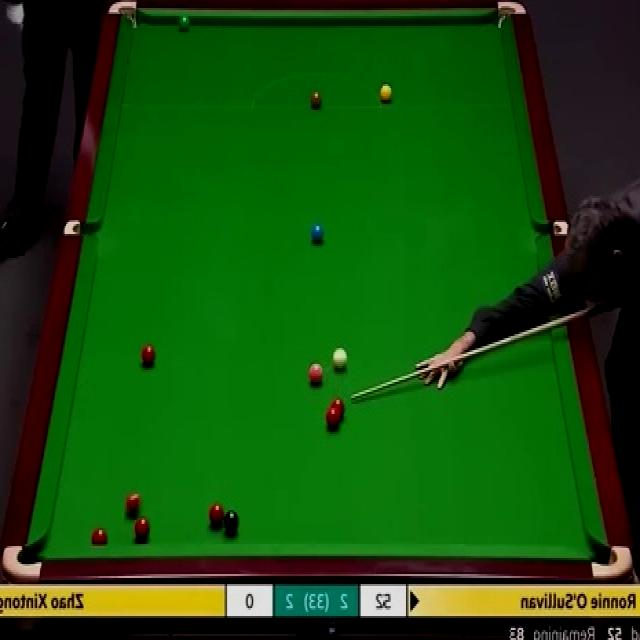pocket: (3, 542, 44, 582), (591, 543, 634, 580), (108, 0, 140, 32), (495, 2, 528, 29), (63, 218, 100, 237), (537, 218, 571, 236)
